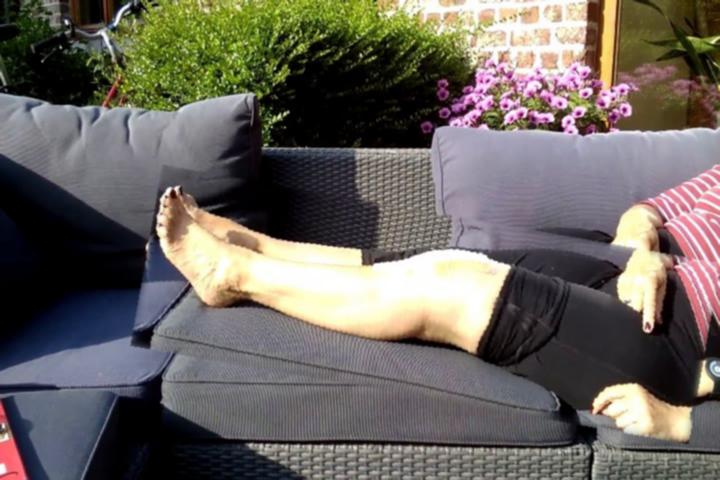lower_body: (137, 190, 716, 422)
